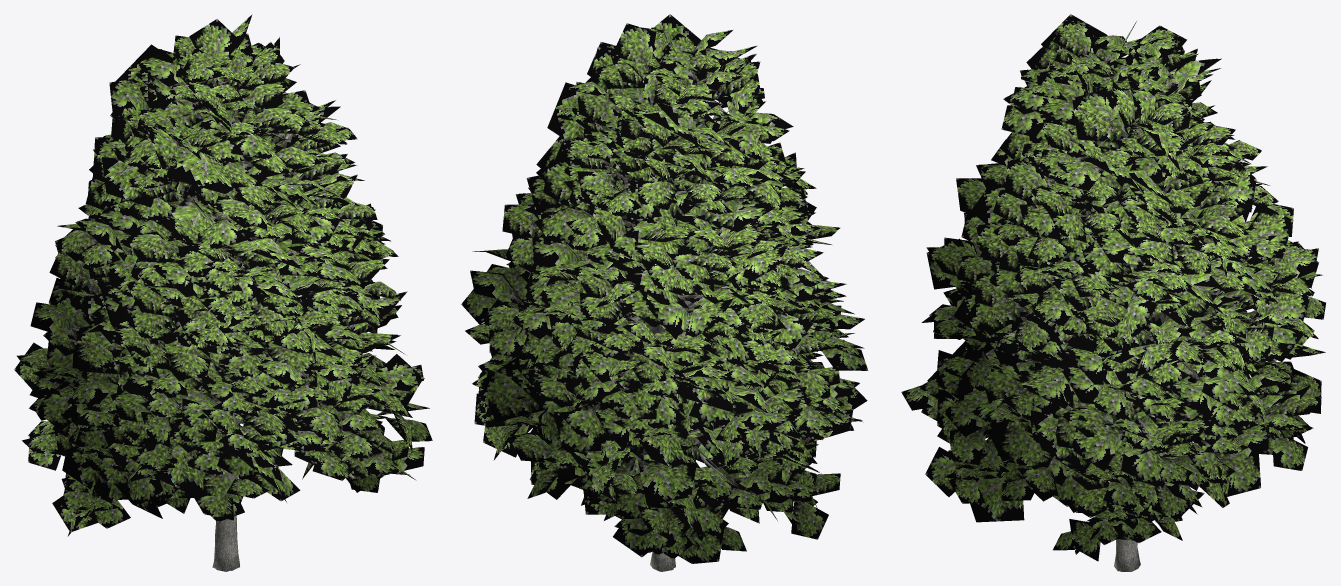
File: Black_Gum_Desktop-transformed.glb
The picture shows the model from 3 angles, left to right: view 1: azimuth 30°, elevation 25°; view 2: azimuth 150°, elevation 25°; view 3: azimuth 270°, elevation 25°; orthographic projection.
Parts seen in each view (by area): view 1: Black_Gum_Desktop_LOD0; view 2: Black_Gum_Desktop_LOD0; view 3: Black_Gum_Desktop_LOD0.
Part boxes in pixels (x1,y1,x2,y2): Black_Gum_Desktop_LOD0: (14,14,432,571); Black_Gum_Desktop_LOD0: (461,14,868,571); Black_Gum_Desktop_LOD0: (901,14,1325,571).
Bounding box in the file's own units: 6.42 × 9.07 × 6.41.
Materials: 2 (2 with a texture image).
